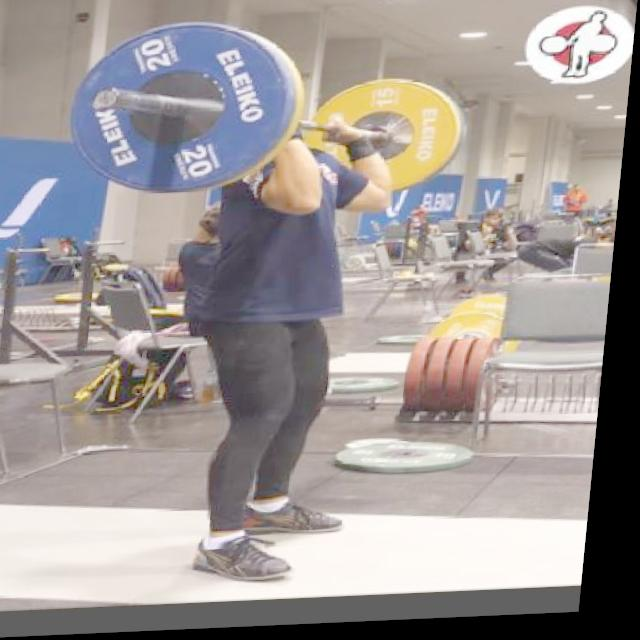barbell: (59, 17, 304, 203)
